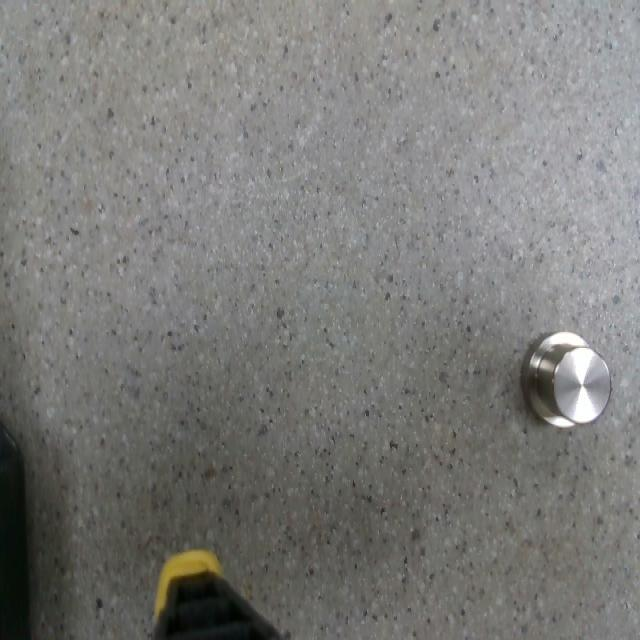sensor: (522, 330, 612, 428)
